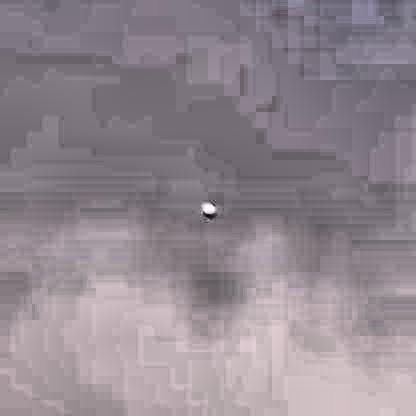golfball: (200, 197, 213, 213)
